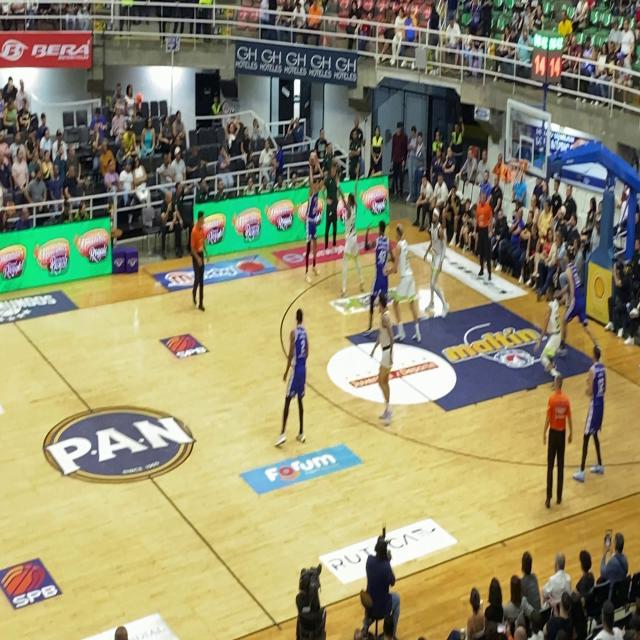Ball: (307, 146, 321, 173)
referee: (542, 368, 574, 522), (178, 192, 215, 322), (474, 187, 498, 292)
team1: (371, 295, 409, 427), (419, 199, 451, 335), (529, 277, 567, 377), (339, 185, 369, 294), (392, 206, 417, 323)
team2: (270, 295, 316, 451), (573, 344, 610, 499), (300, 172, 333, 279), (364, 215, 396, 308)
ubasket: (508, 155, 526, 191)
